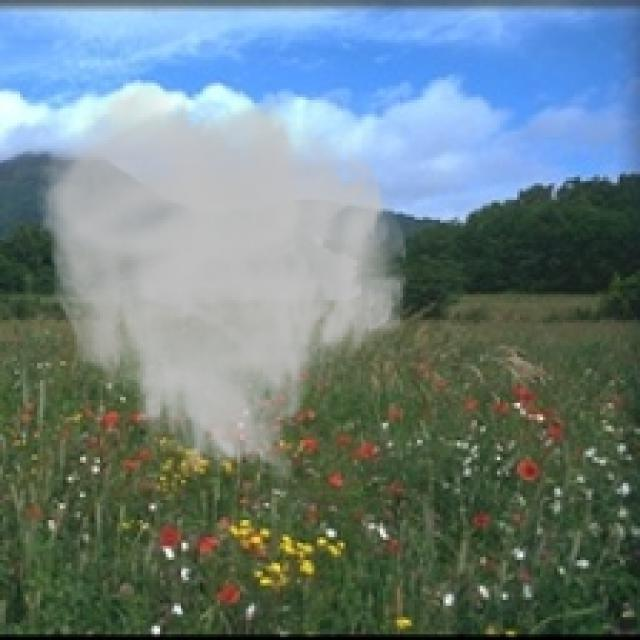Smoke: (34, 82, 412, 488)
